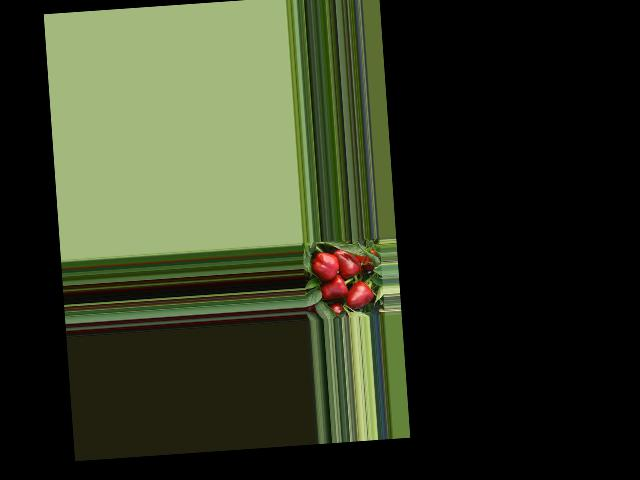bell_pepper: (311, 248, 340, 287)
